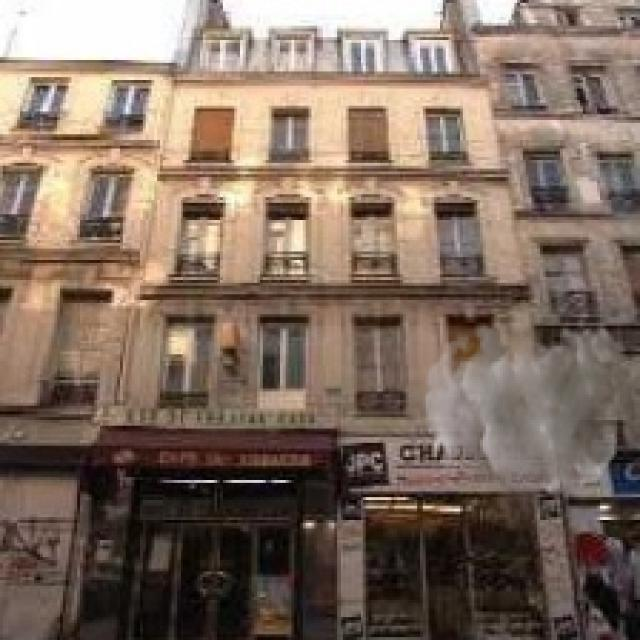smoke: (423, 317, 628, 523)
